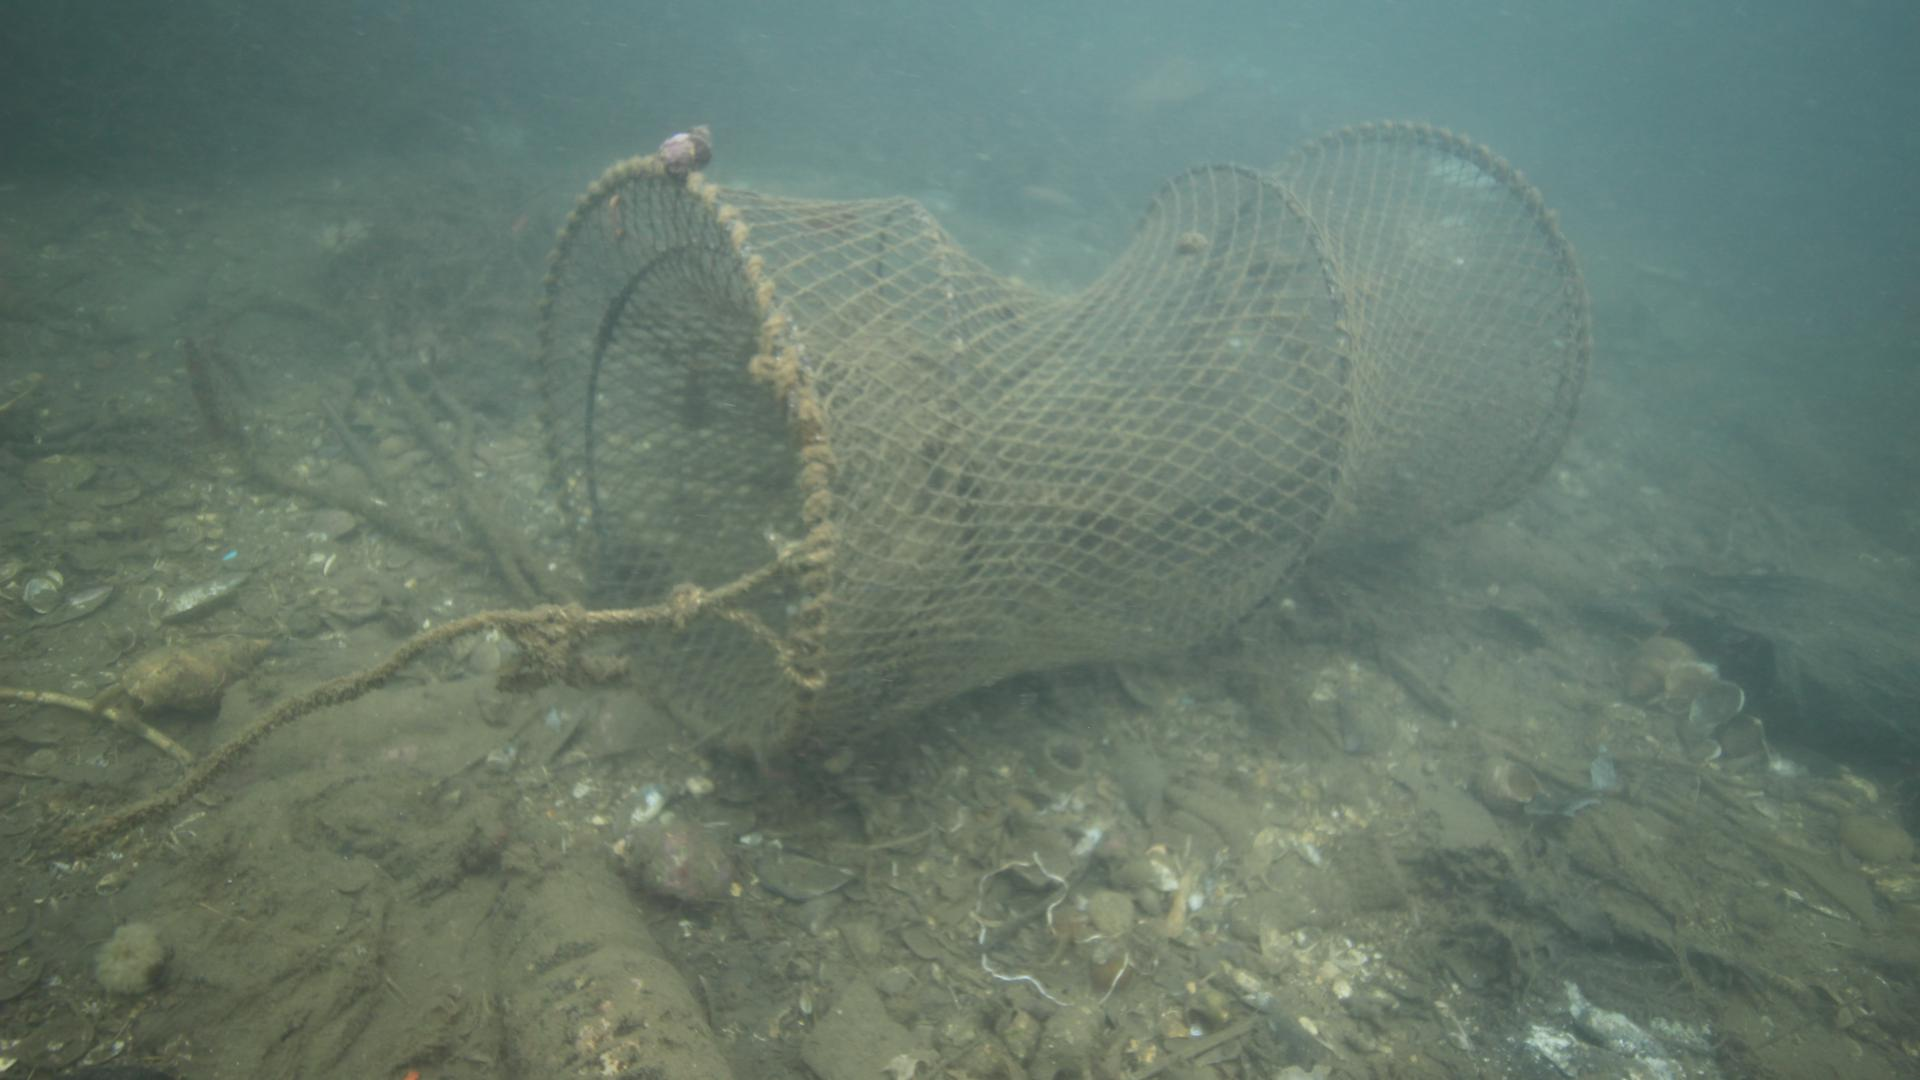rope: (47, 554, 795, 862)
spring fish trap: (531, 115, 1592, 767)
